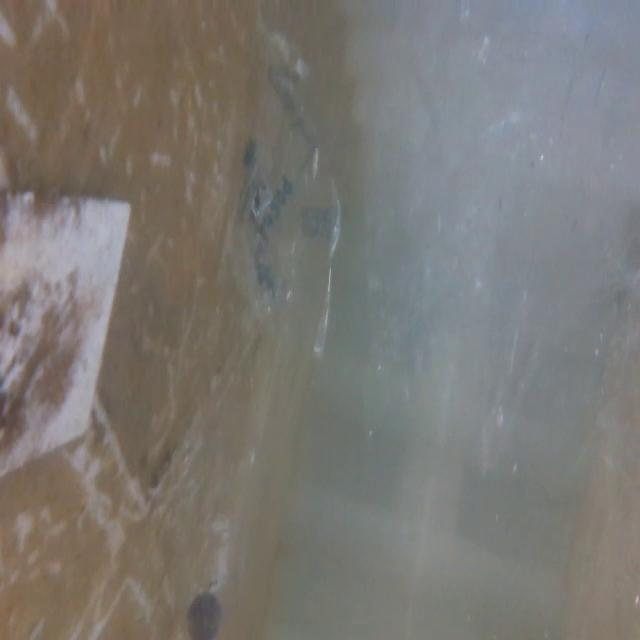metal: (0, 192, 146, 493)
plastic bags: (387, 0, 640, 470), (233, 4, 362, 363)
plastic bottle: (180, 361, 284, 635)
